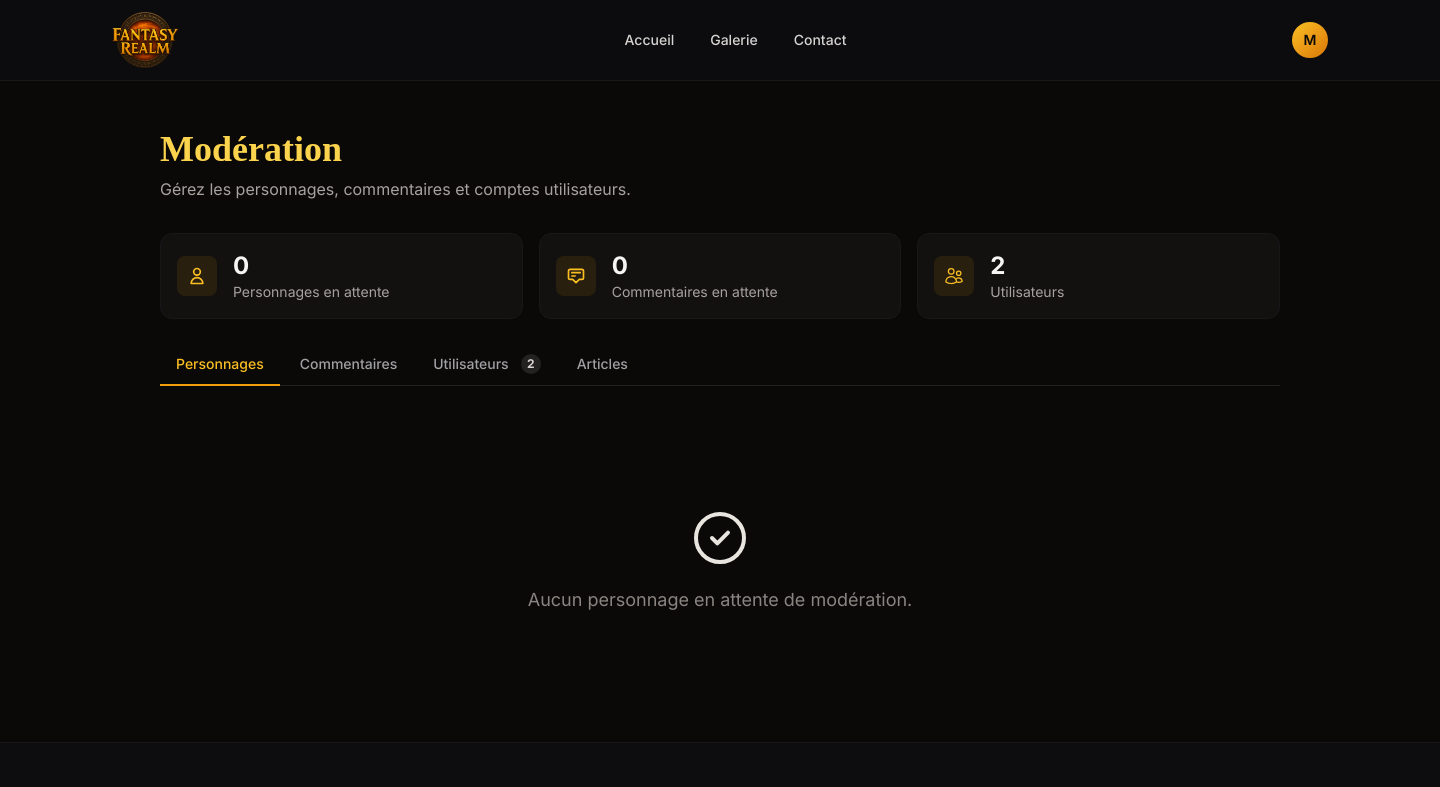
Test: ModerationPage › users tab › should display users after switching tab
What coordinates should you click on to do the following:
click the tab "Utilisateurs 2"
I would click on:
 (487, 364)
Its box is [417,343,557,386].
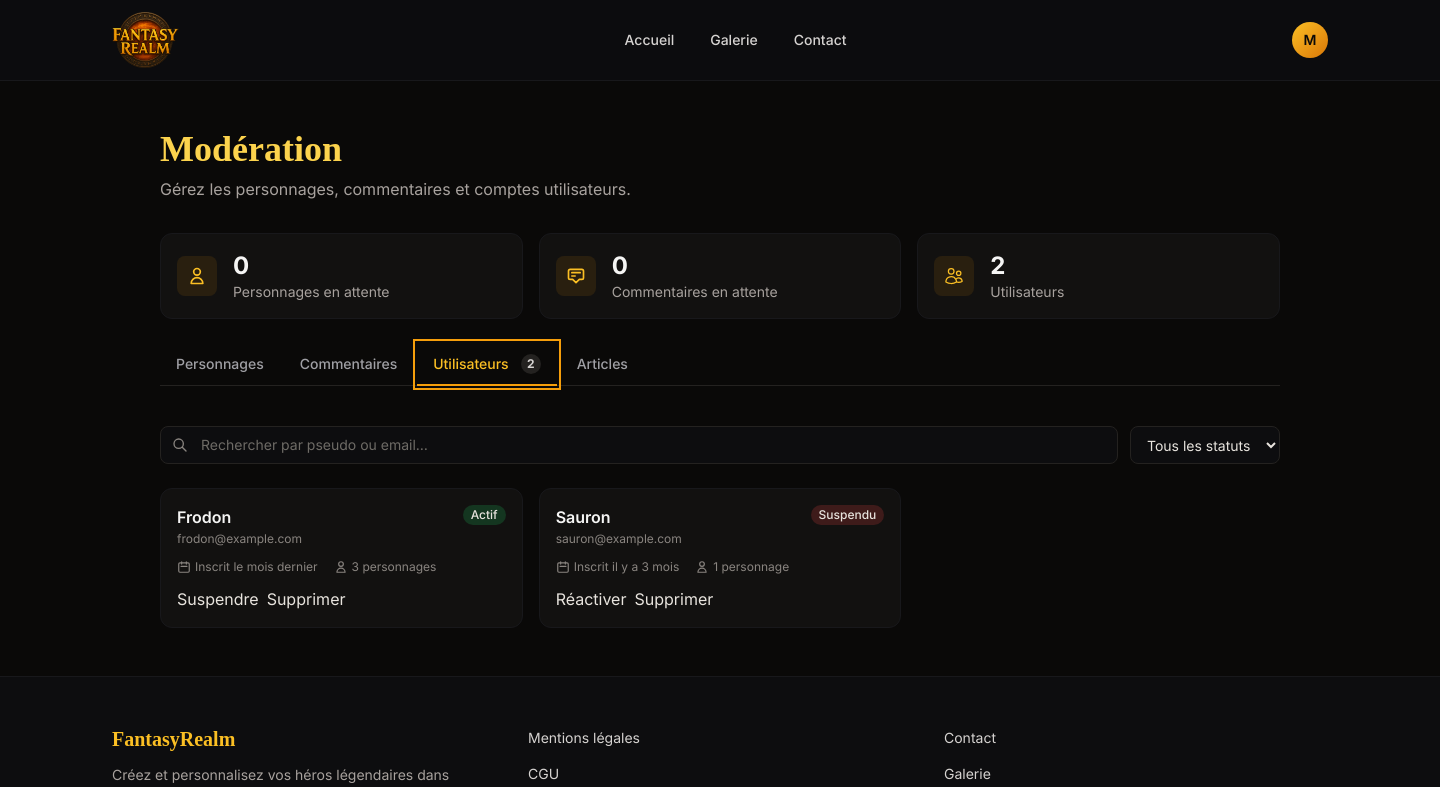
Expected: the text "Frodon" is shown, [177,507,231,527]
Expected: the text "Sauron" is shown, [556,507,611,527]
Expected: the text "frodon@example.com" is shown, [177,531,302,547]
